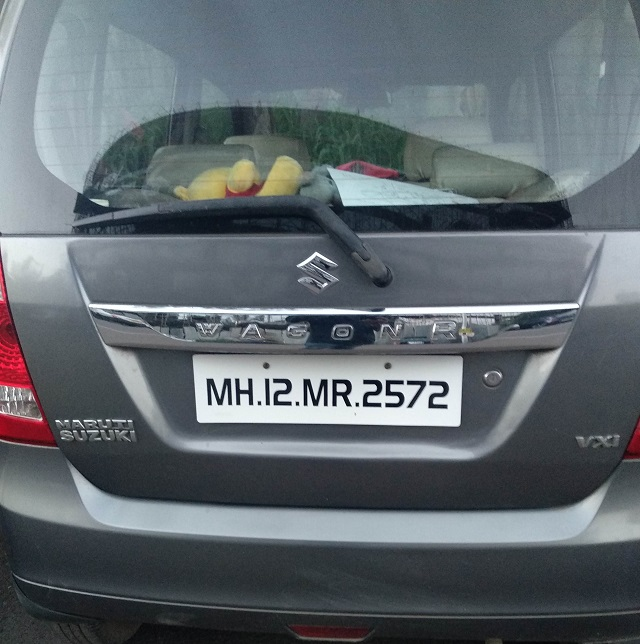licenseplate: (191, 349, 468, 433)
